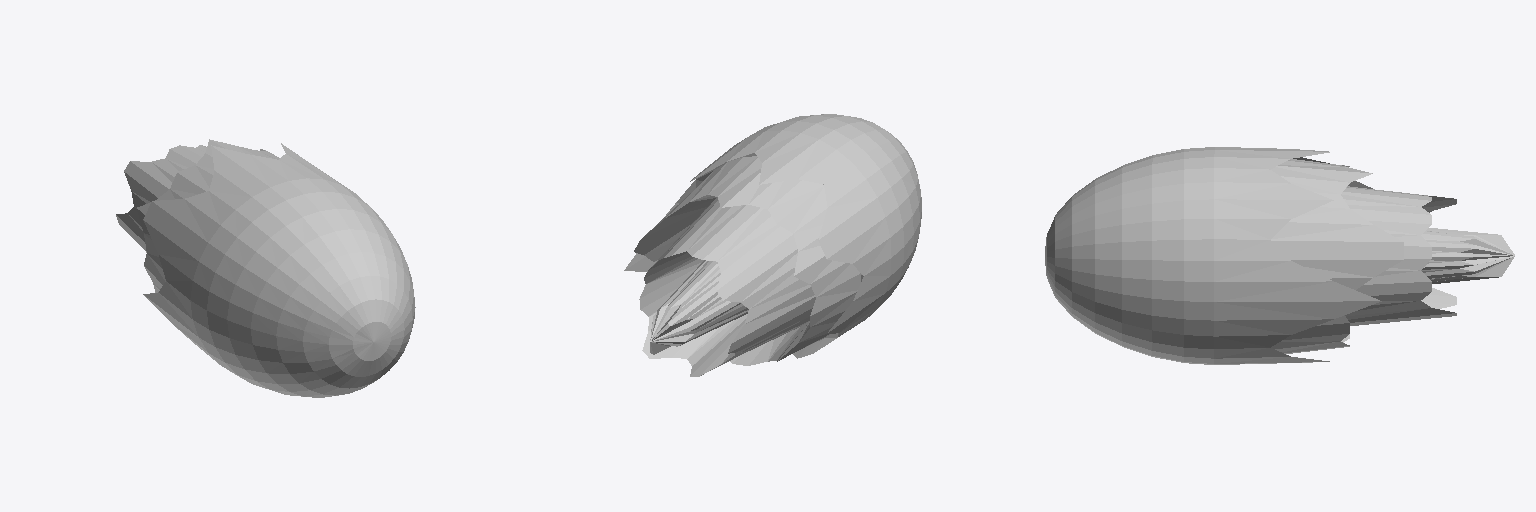
File: DroneProjectile.obj
3 renders of one model, left to right at view 1: azimuth 30°, elevation 25°; view 2: azimuth 150°, elevation 25°; view 3: azimuth 270°, elevation 25°, orthographic.
Visible parts, largest first — view 1: Sphere; view 2: Sphere; view 3: Sphere.
Part boxes in pixels (x1,y1,x2,y2): Sphere: (116,139,415,397); Sphere: (624,114,921,376); Sphere: (1045,147,1514,364).
Bounding box in the file's own units: 2 × 2 × 4.31.